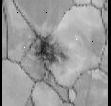good_void: (35, 32, 69, 65)
